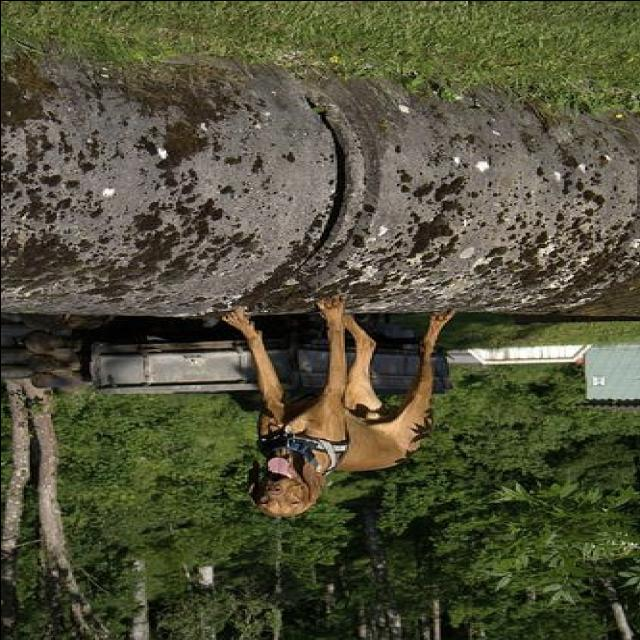vizsla: (220, 297, 453, 517)
